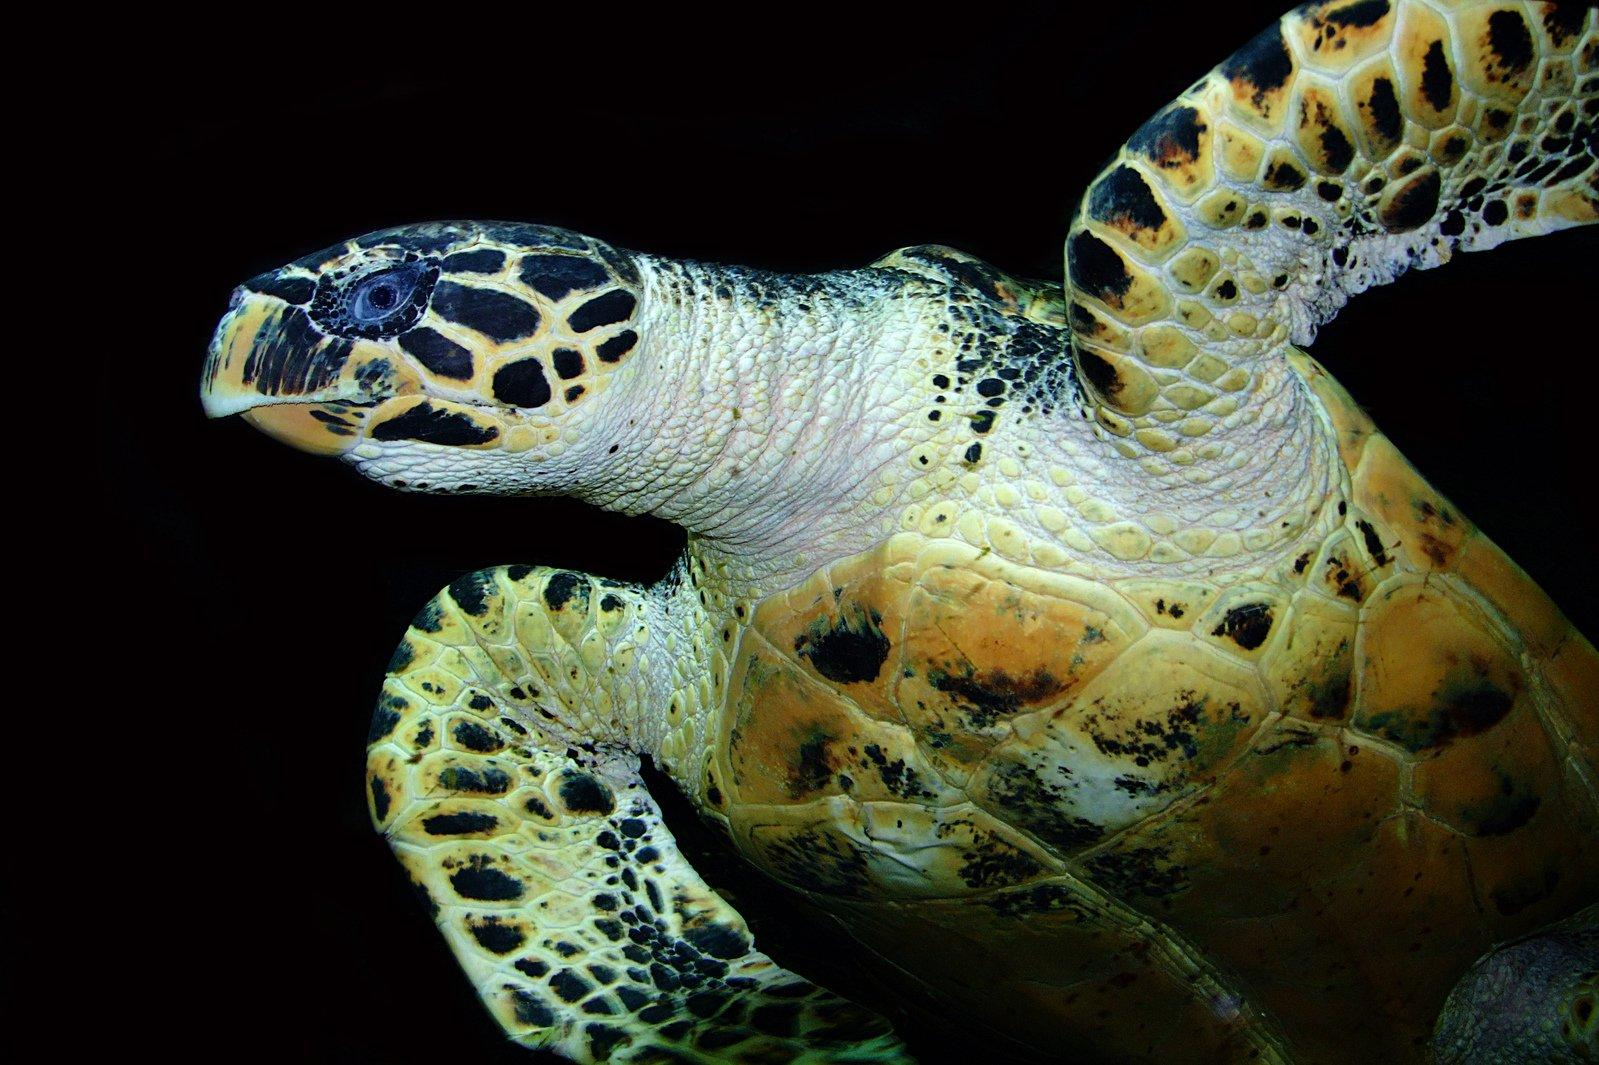turtle: (192, 202, 671, 537)
